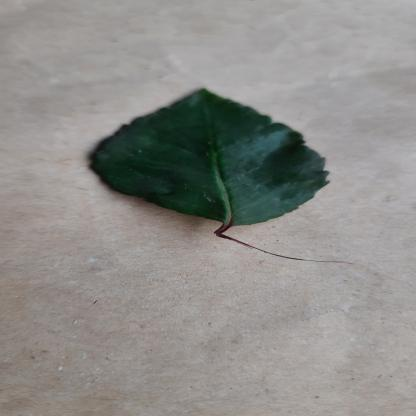normal: (83, 86, 345, 228)
